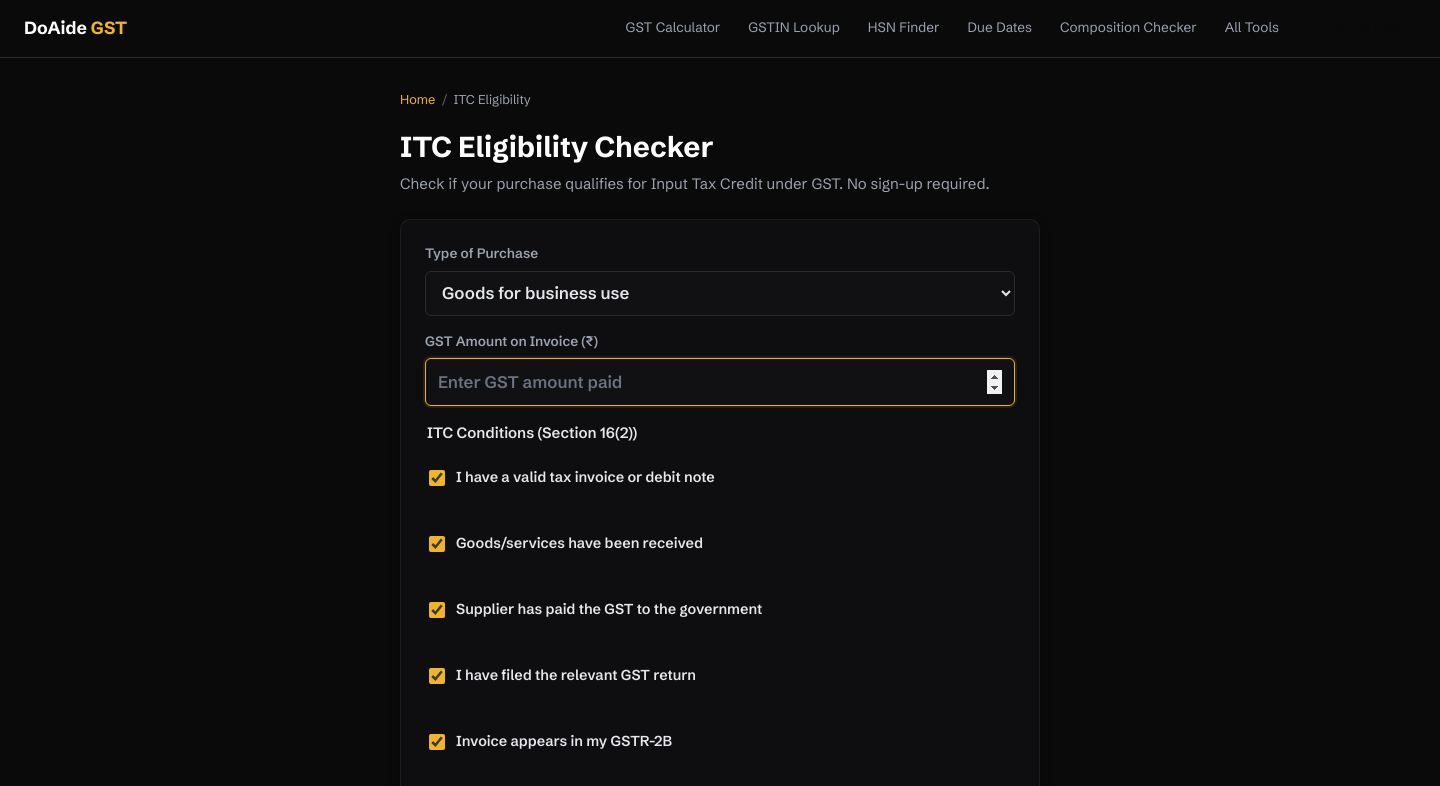
ItcEligibilityPage › shows eligible result when GST amount is entered for business goods
Type "5000" into the number field with placeholder "Enter GST amount paid".
click(720, 382); type("5000")  # box [425,358,1015,406]
(page scrolled)
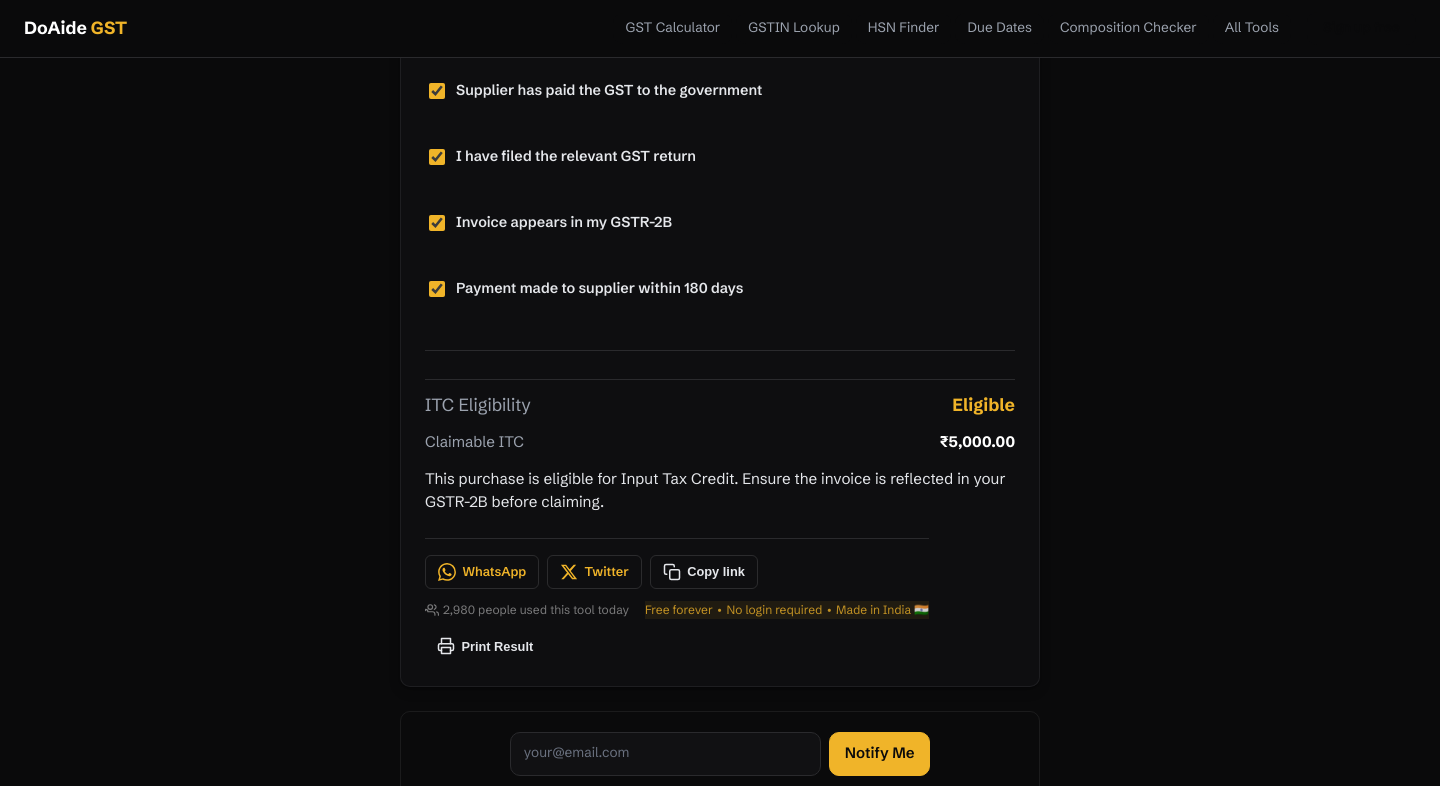
Expected: the text "Eligible" is shown, [952,392,1015,418]
